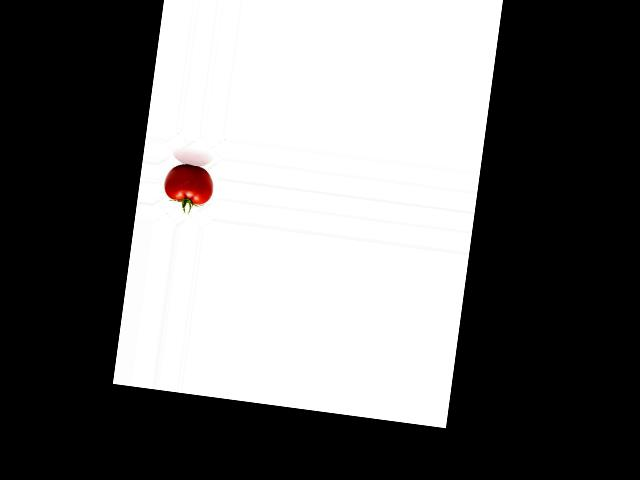tomato: (161, 161, 215, 206)
